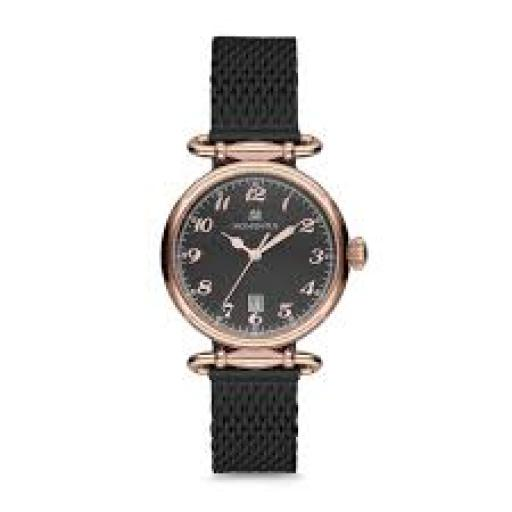KolSaati: (161, 24, 359, 491)
